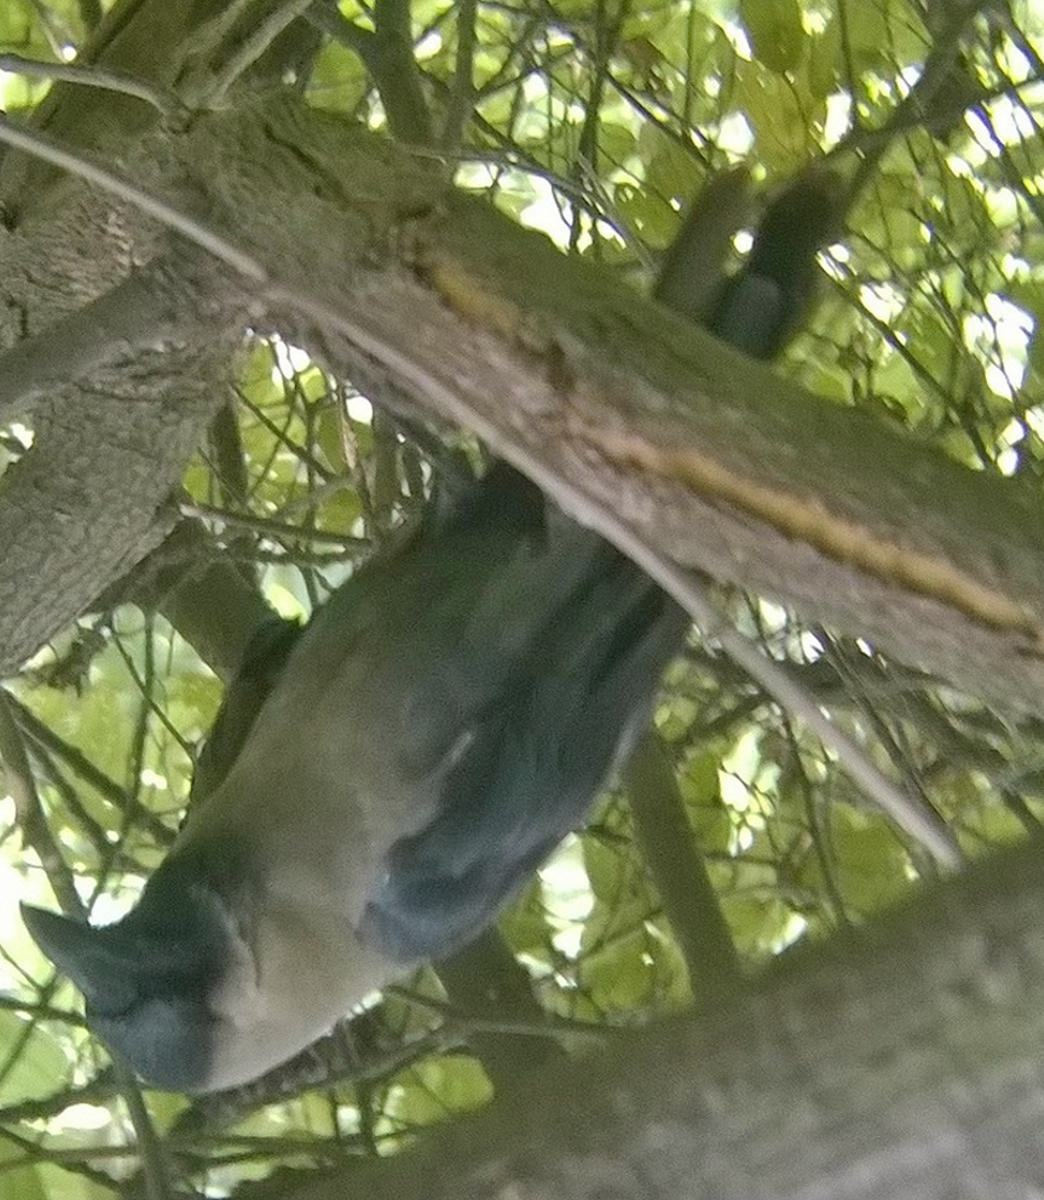crow: (34, 193, 915, 1103)
